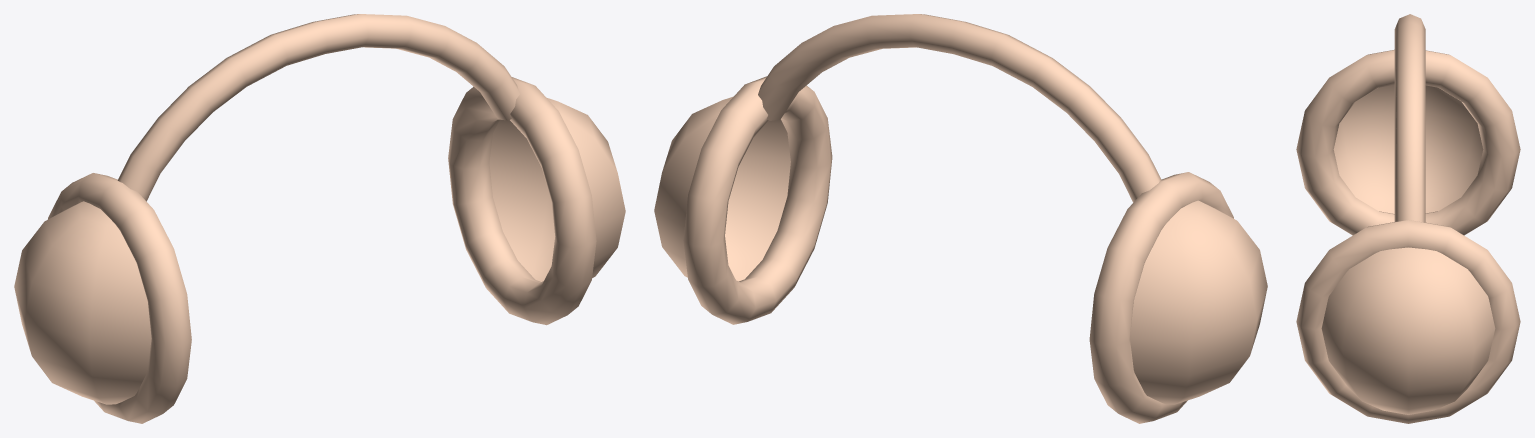
Rendered from Customer_01.fbx.
3 renders of one model, left to right at view 1: azimuth 30°, elevation 25°; view 2: azimuth 150°, elevation 25°; view 3: azimuth 270°, elevation 25°, orthographic. The views are drawn at different scales.
Parts seen in each view (by area): view 1: Customer_01; view 2: Customer_01; view 3: Customer_01.
Part boxes in pixels (x1,y1,x2,y2): Customer_01: [14, 14, 625, 423]; Customer_01: [654, 14, 1267, 423]; Customer_01: [1296, 14, 1520, 423].
Bounding box in the file's own units: 2.29 × 1.27 × 0.8629.
